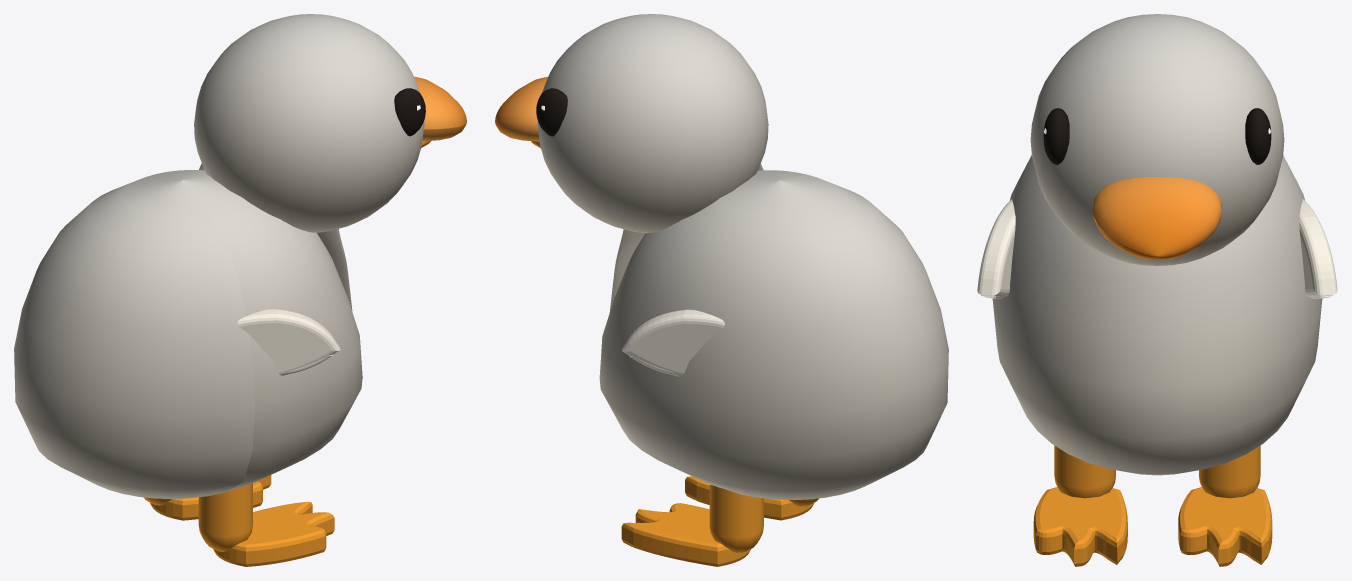
The model's file is duck.glb.
3 renders of one model, left to right at view 1: azimuth 30°, elevation 25°; view 2: azimuth 150°, elevation 25°; view 3: azimuth 270°, elevation 25°, orthographic. The views are drawn at different scales.
Bounding box in the file's own units: 1.44 × 1.53 × 0.9109.
